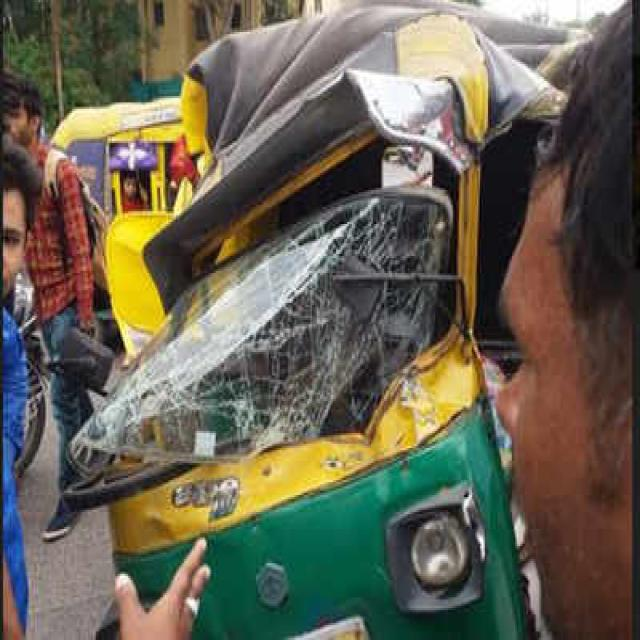accident: (72, 10, 550, 638)
